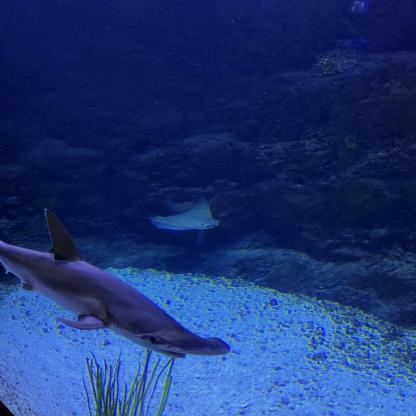shark: (0, 214, 229, 359)
stingray: (150, 193, 230, 240)
